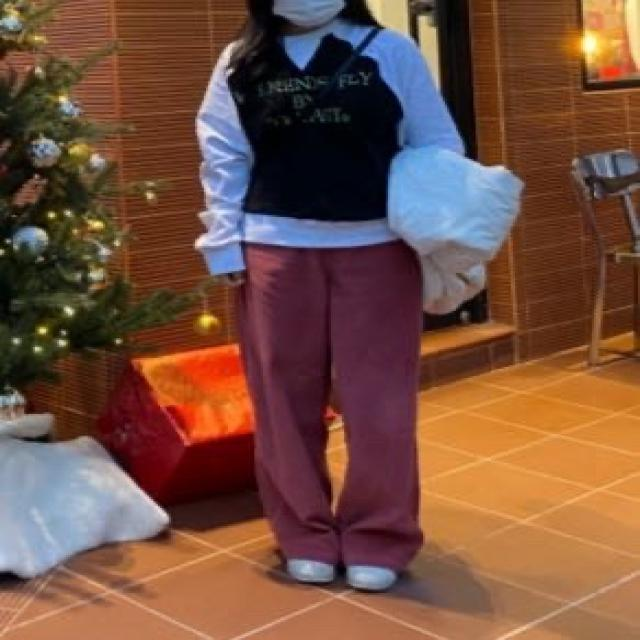denimpants: (234, 239, 426, 573)
mtm: (194, 21, 465, 279)
